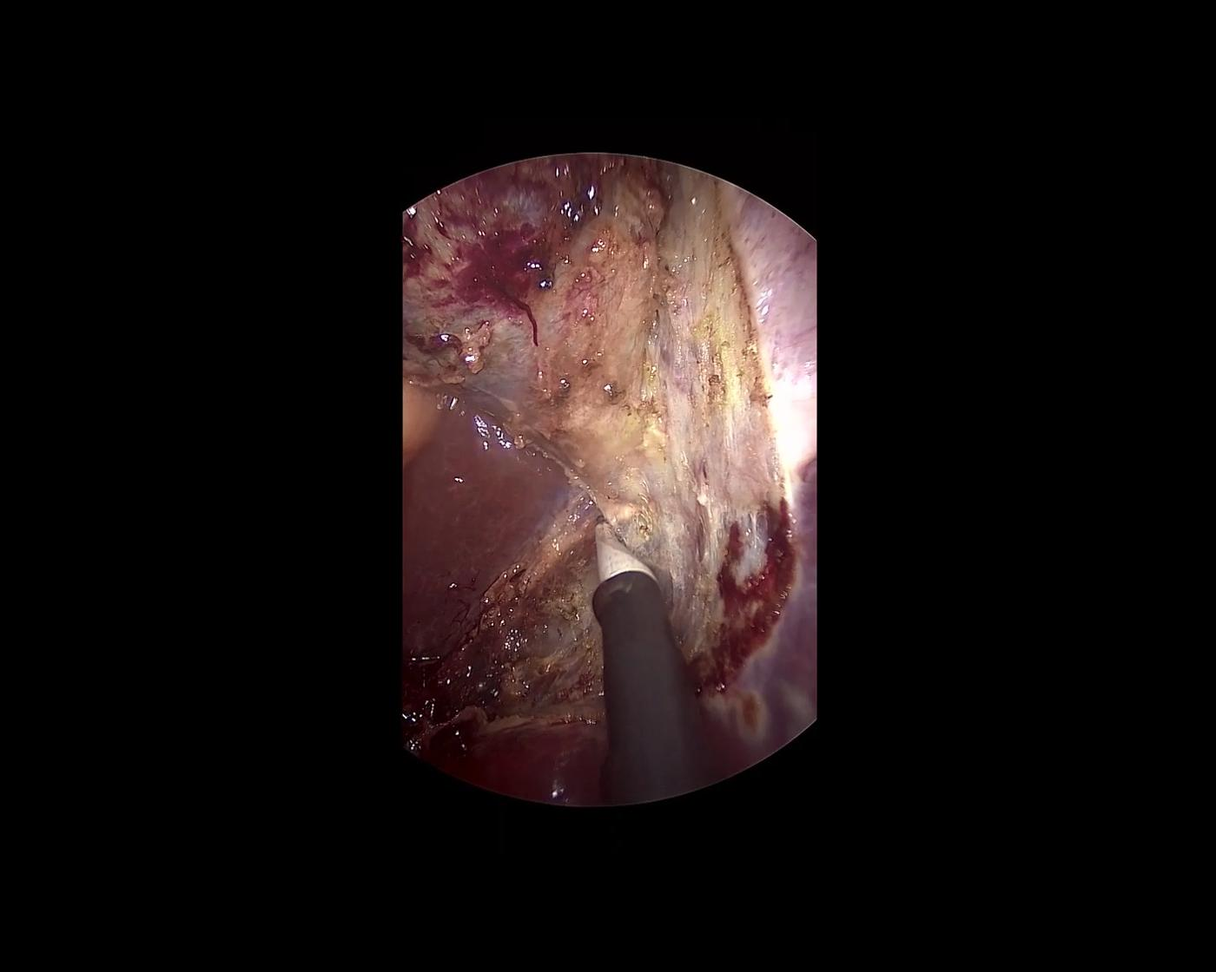Cautery: (581, 512, 717, 804)
Gallbladder: (399, 152, 664, 497)
Liver: (445, 181, 815, 806), (309, 387, 590, 679)
